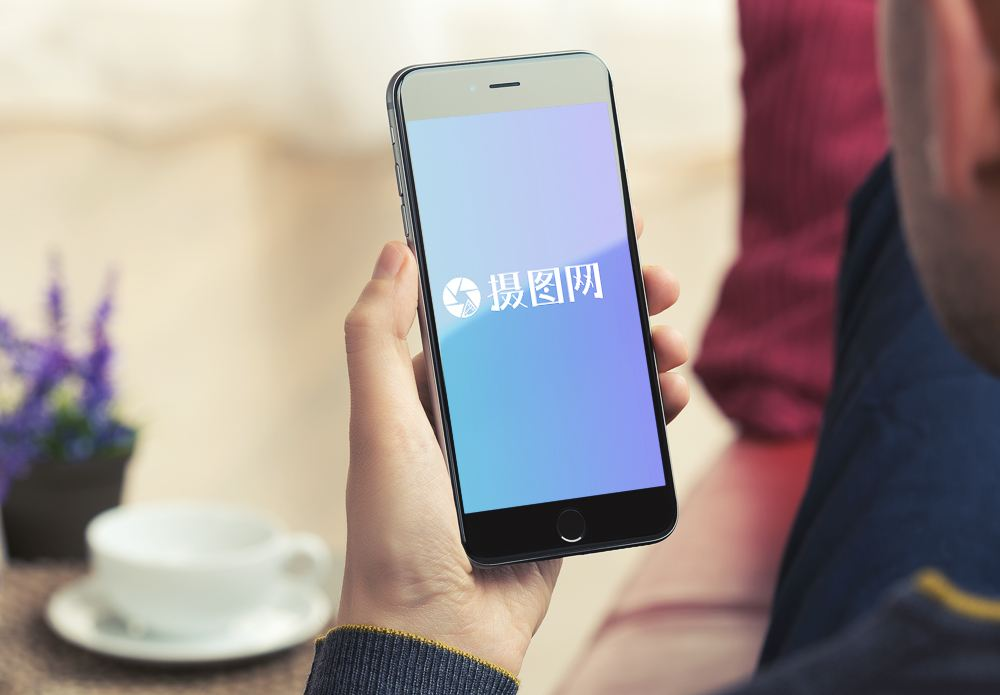phone: (319, 47, 693, 622)
